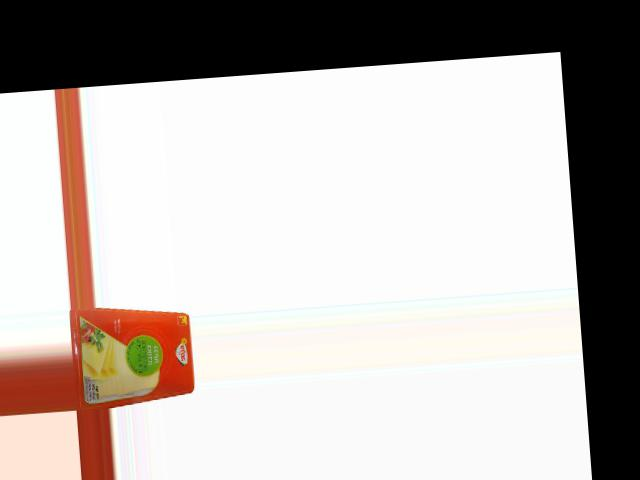cheese: (68, 300, 195, 408)
